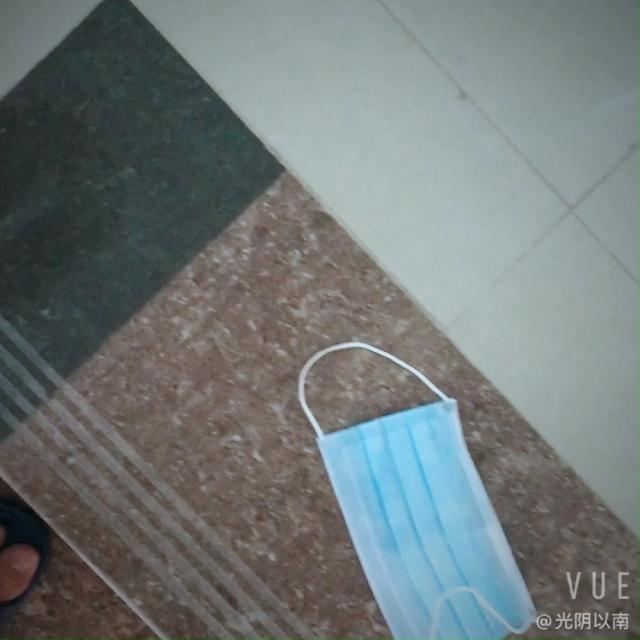non-organic waste: (317, 405, 523, 621)
